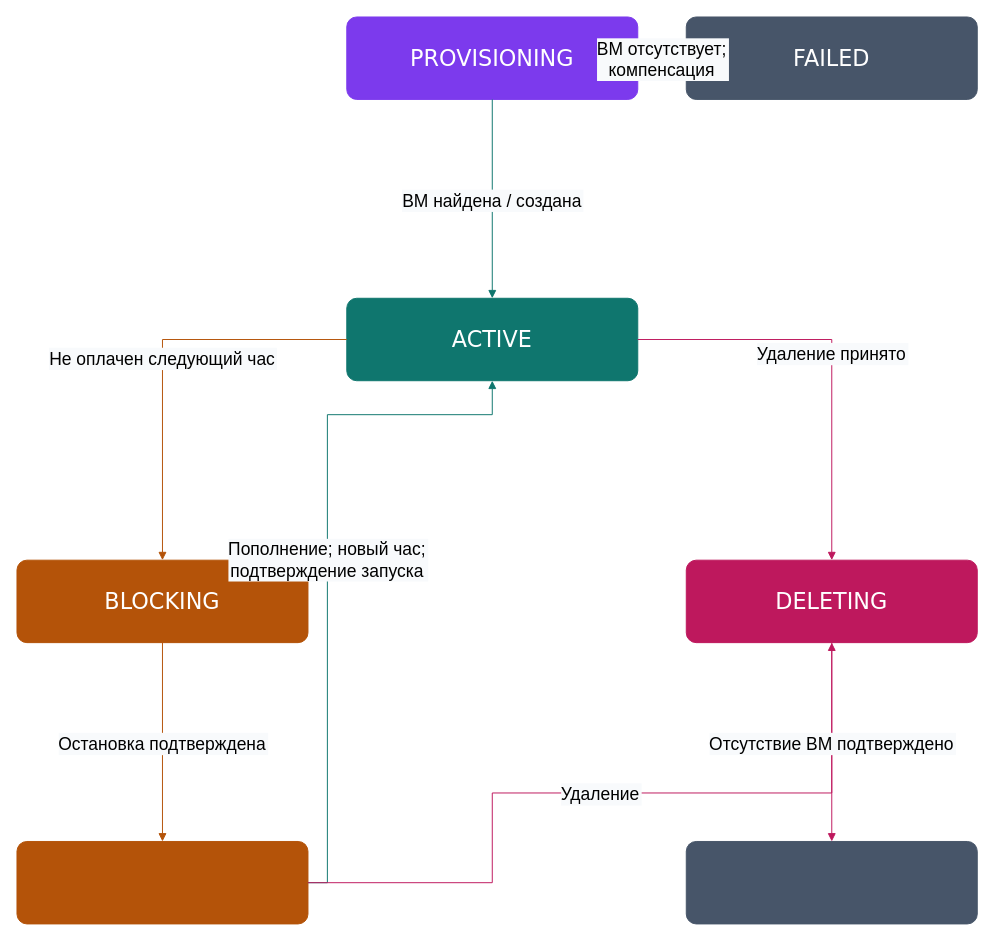
Some shapes in this 994 by 941 pixel diagram are drawn without their labels. The centre of each missing label's shape, as x and y in pixels:
"DELETED" belongs at (831,882).
"SUSPENDED" belongs at (162,882).
